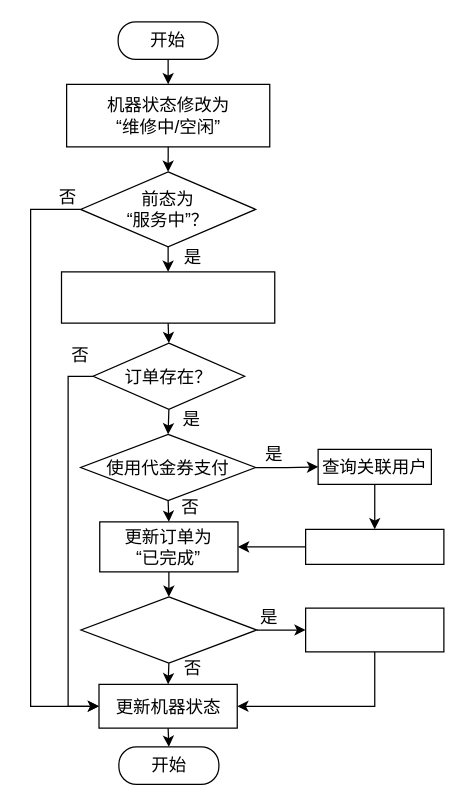
Image size: 466x806. Some labels were removed from this diagram. The centre of each missing label's shape, as x and y in pixels:
"修改为 “维修中”？" goes at (168,629).
"恢复代金券数量" goes at (374,546).
"获取机器关联的 “待进行/进行中”的订单" goes at (167,297).
"通知用户 机器故障" goes at (374,629).
